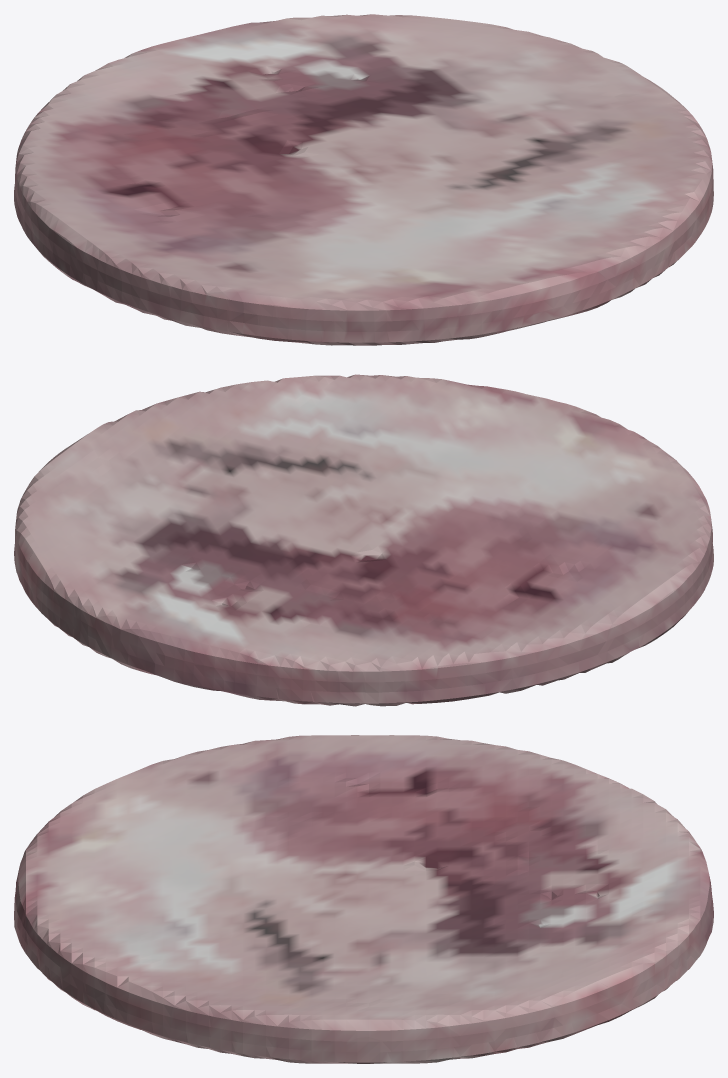
Rendered from Coin.fbx.
3 renders of one model, top to bottom at view 1: azimuth 30°, elevation 25°; view 2: azimuth 150°, elevation 25°; view 3: azimuth 270°, elevation 25°, orthographic.
Parts seen in each view (by area): view 1: Dollar; view 2: Dollar; view 3: Dollar.
Part boxes in pixels (x1,y1,x2,y2): Dollar: [14, 14, 713, 345]; Dollar: [14, 374, 713, 706]; Dollar: [14, 735, 713, 1063].
Size of the model in its own units: 99.38 by 7.47 by 99.14.
